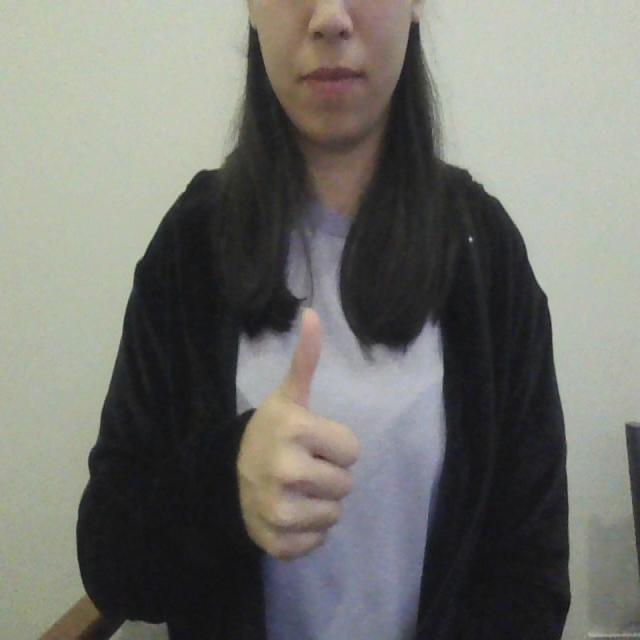Tamam: (221, 308, 366, 574)
